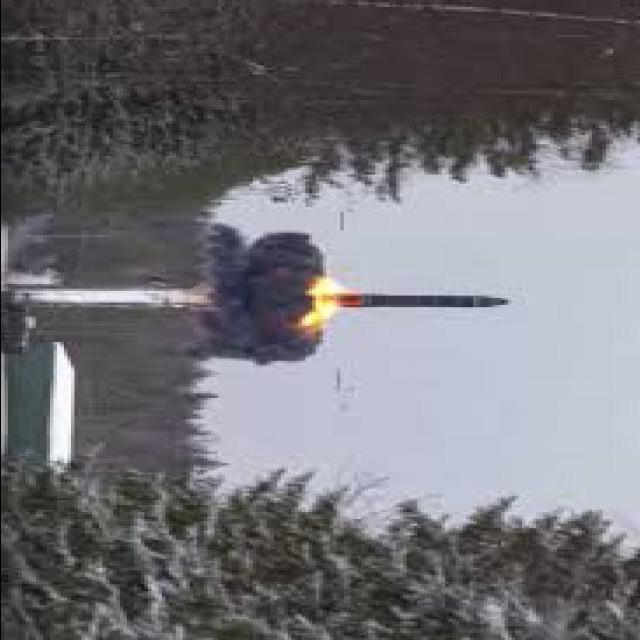missile: (330, 288, 523, 316)
